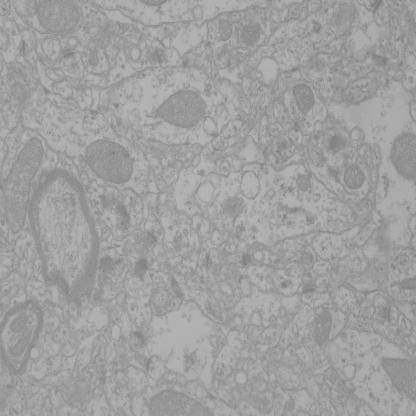mitochondria: (2, 137, 44, 234), (84, 141, 134, 185), (154, 89, 208, 128), (149, 388, 216, 416), (378, 356, 416, 404), (36, 0, 80, 35), (389, 131, 416, 182), (292, 84, 316, 116), (314, 309, 333, 346), (10, 327, 33, 357), (240, 20, 262, 48), (343, 165, 366, 190), (11, 311, 28, 334), (218, 18, 234, 42)
